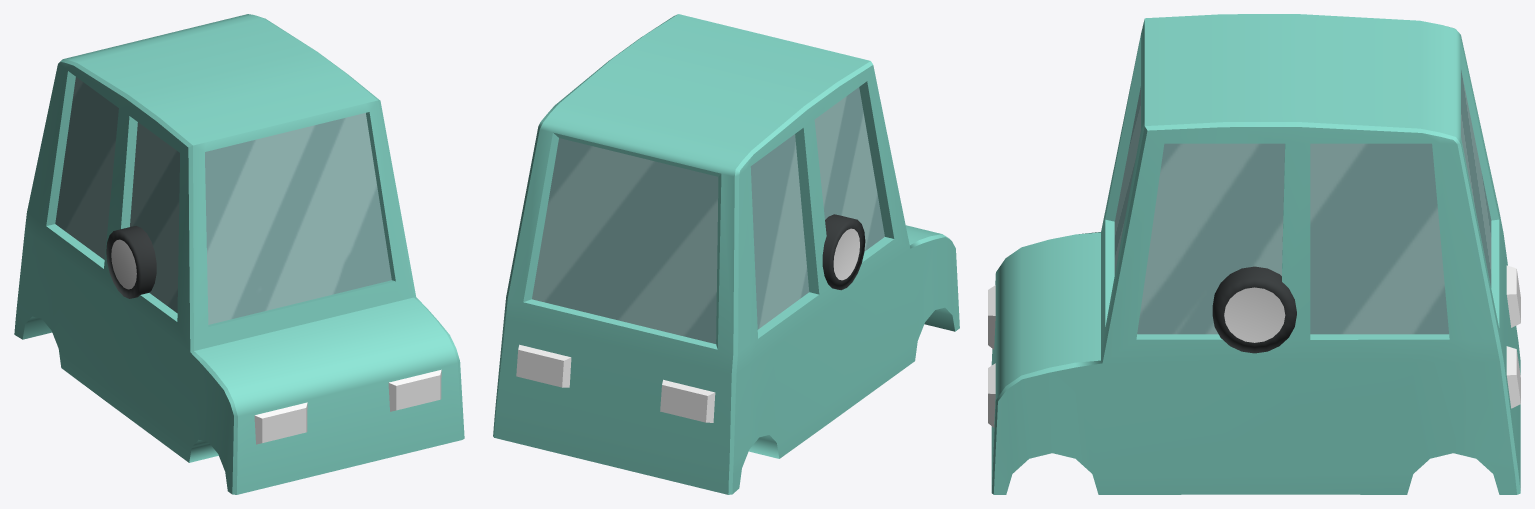
Rendered from car_3_T.fbx.
3 views of the same model, side by side, from view 1: azimuth 30°, elevation 25°; view 2: azimuth 150°, elevation 25°; view 3: azimuth 270°, elevation 25° (orthographic). The views are drawn at different scales.
Parts seen in each view (by area): view 1: car_3_chasis_T, car_3_back_wheel_T, car_3_right_wheel_T; view 2: car_3_chasis_T, car_3_back_wheel_T, car_3_right_wheel_T; view 3: car_3_chasis_T, car_3_left_wheel_T.
Part boxes in pixels (left/top/right/bottom): car_3_chasis_T: left=14, top=14, right=464, bottom=494; car_3_back_wheel_T: left=106, top=226, right=156, bottom=298; car_3_right_wheel_T: left=116, top=226, right=156, bottom=296; car_3_chasis_T: left=493, top=14, right=959, bottom=494; car_3_back_wheel_T: left=822, top=214, right=865, bottom=290; car_3_right_wheel_T: left=822, top=215, right=849, bottom=288; car_3_chasis_T: left=988, top=14, right=1520, bottom=494; car_3_left_wheel_T: left=1212, top=266, right=1296, bottom=353.
Size of the model in its own units: 92.39 by 115 by 154.
